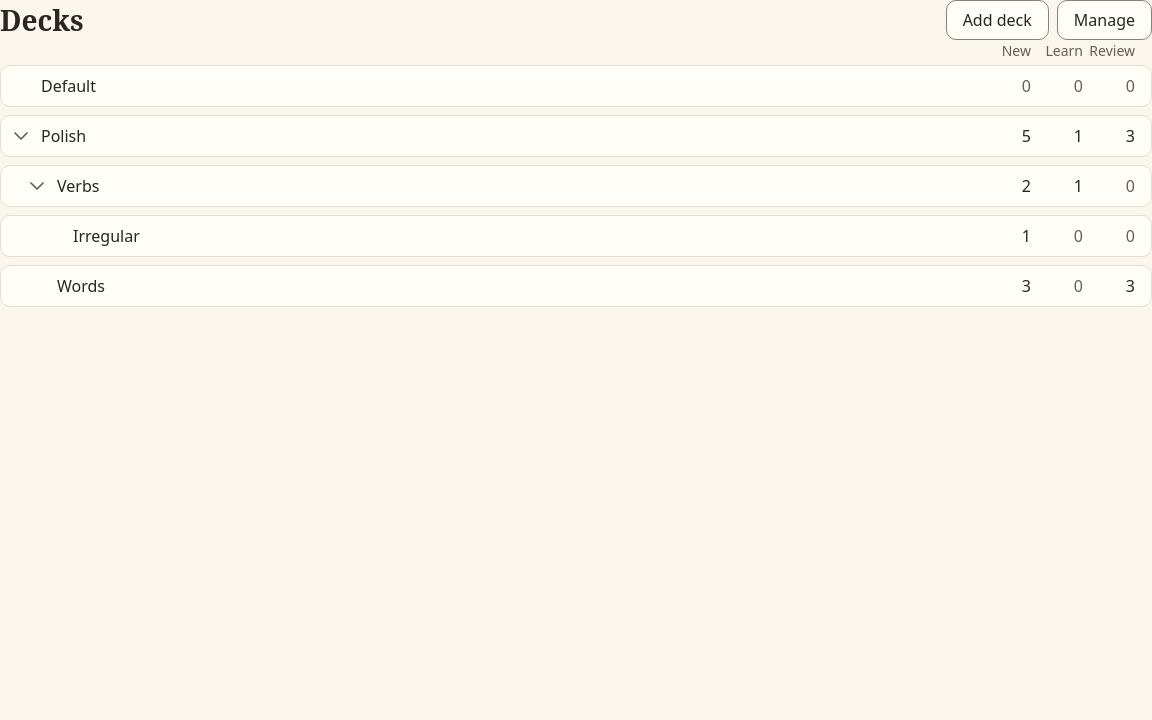
Test: Managing decks › Add inside starts with that deck as the parent
This screenshot has width=1152, height=720.
Click the button "Manage" at (1104, 20), box left=1057, top=0, right=1151, bottom=40
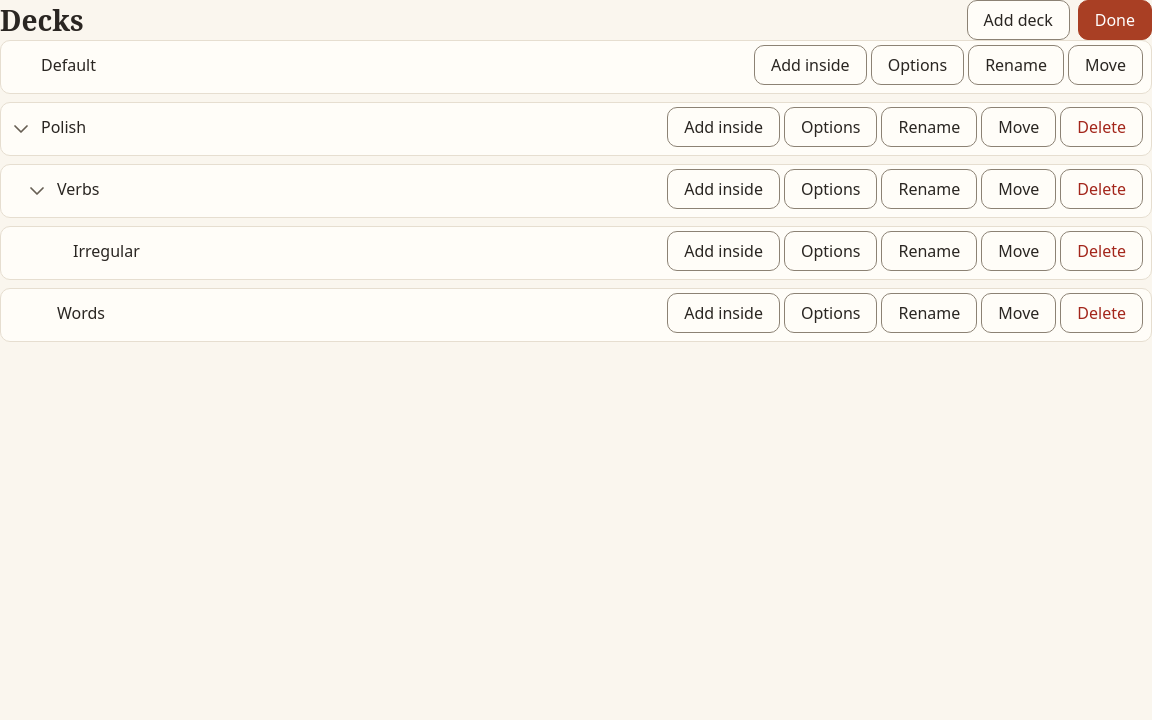
Click the button named "Add inside Verbs" at (724, 189), box left=667, top=169, right=780, bottom=209
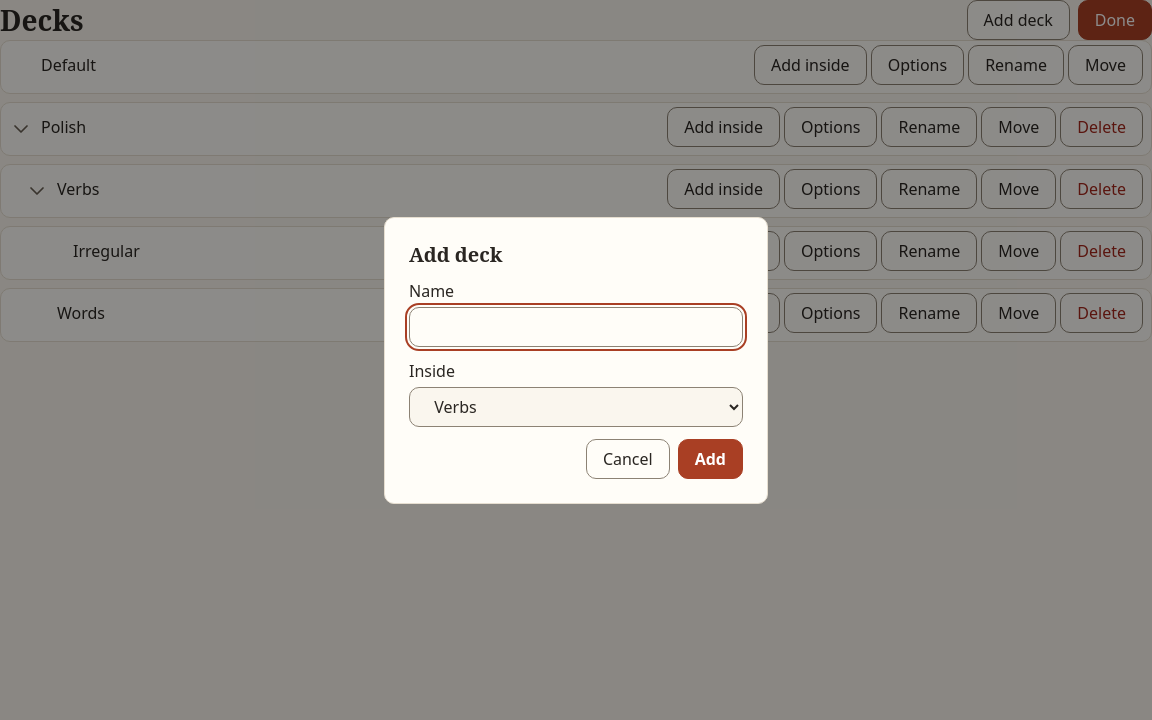
Now the dropdown labelled "Inside" shows "  Verbs", box left=409, top=386, right=743, bottom=426
